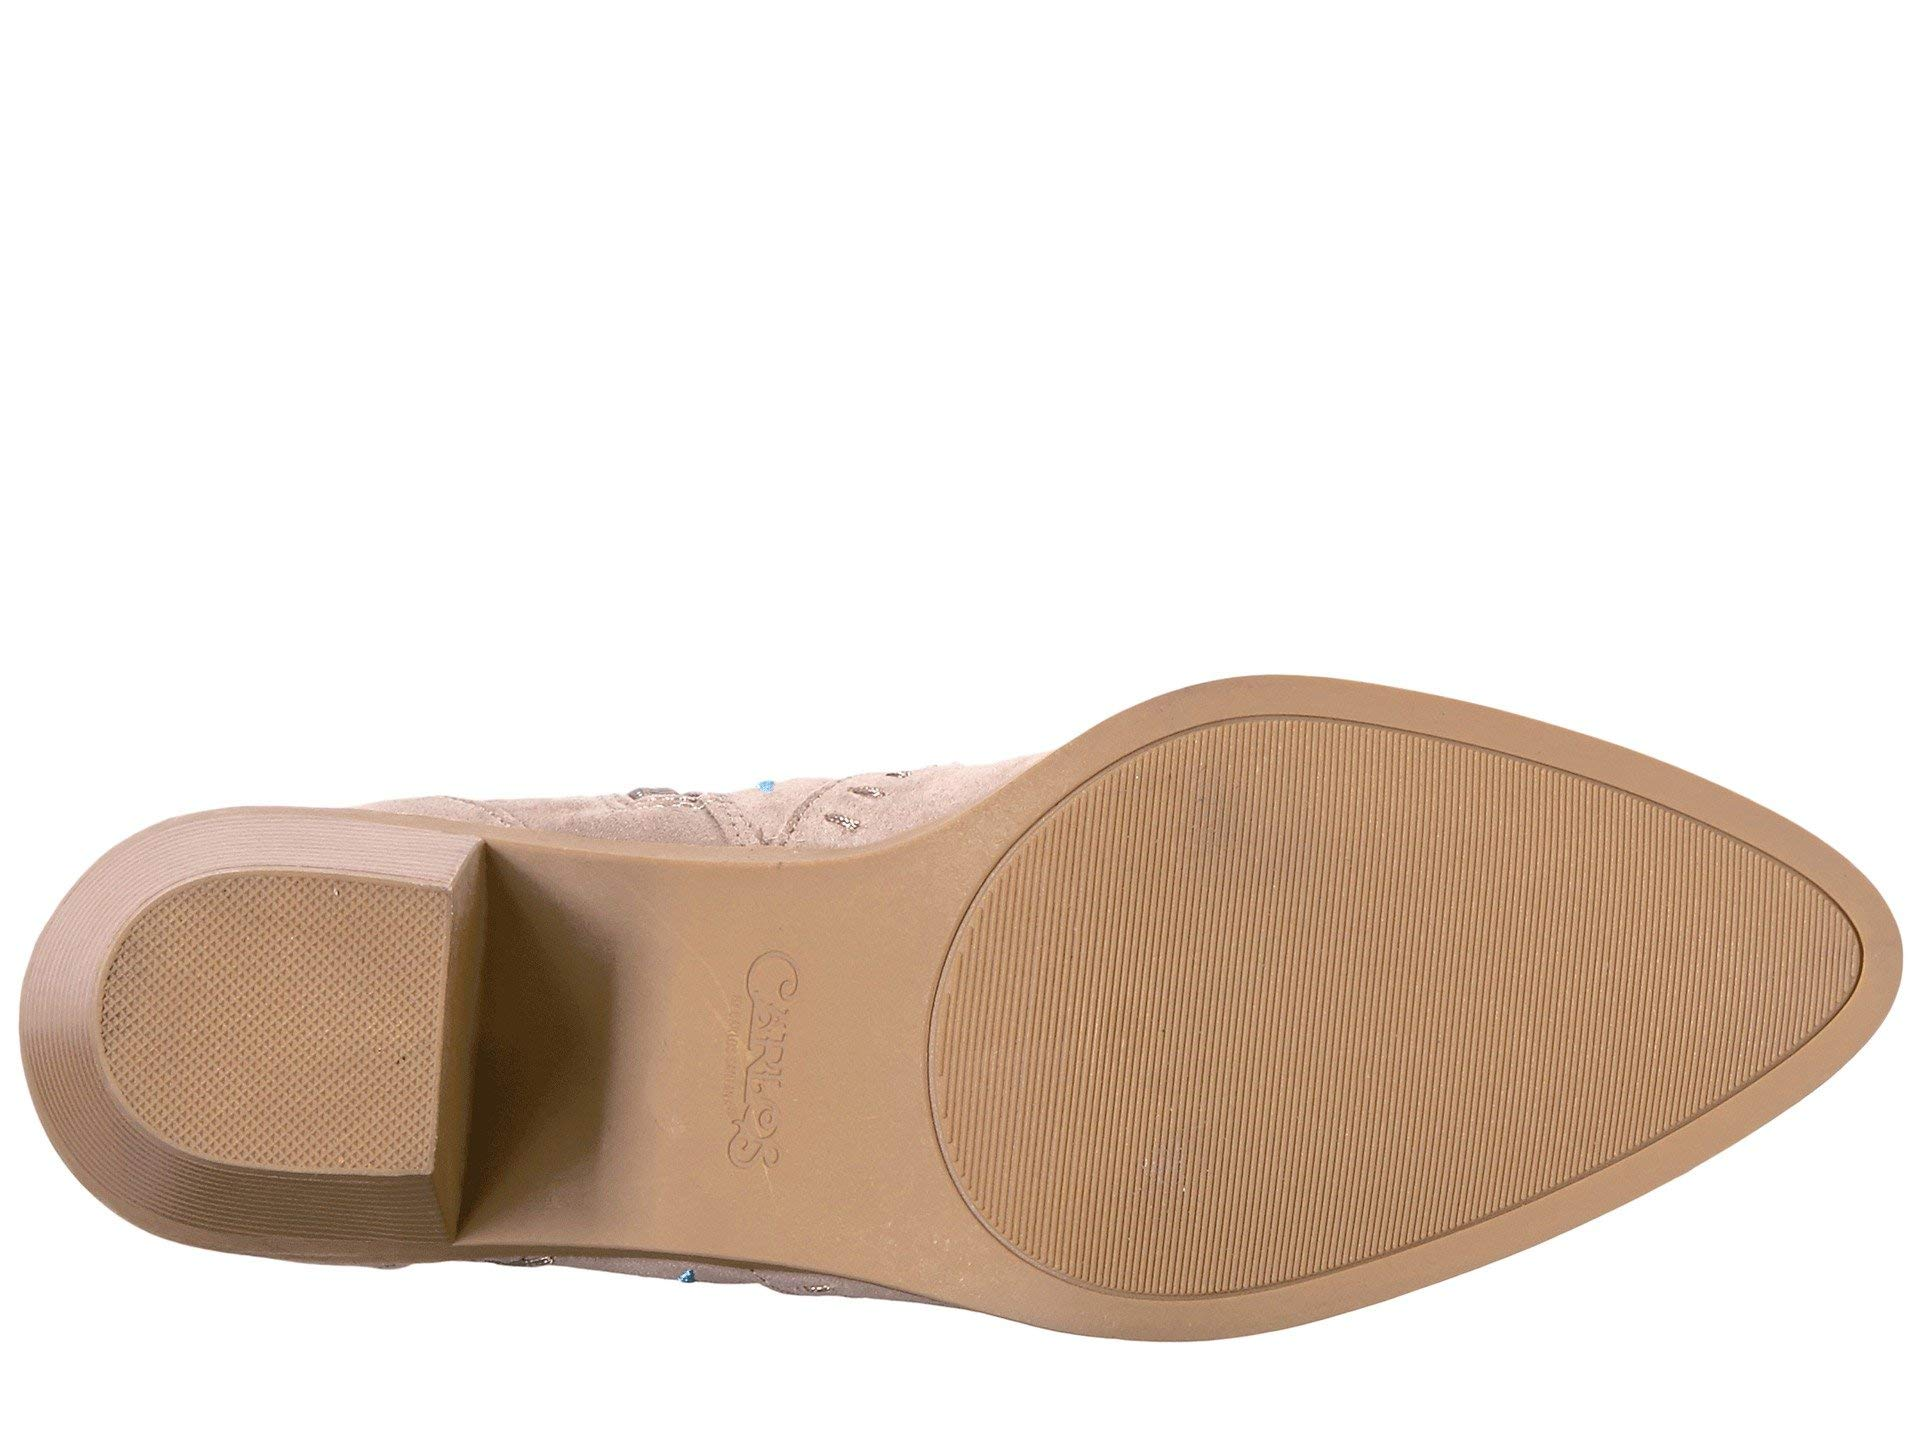line: (1147, 835, 1477, 1165)
quad: (184, 911, 336, 1078)
